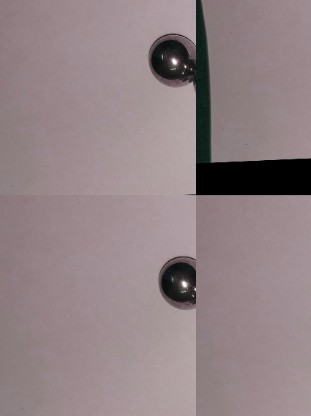ironball: (146, 31, 194, 85), (156, 258, 194, 309)
